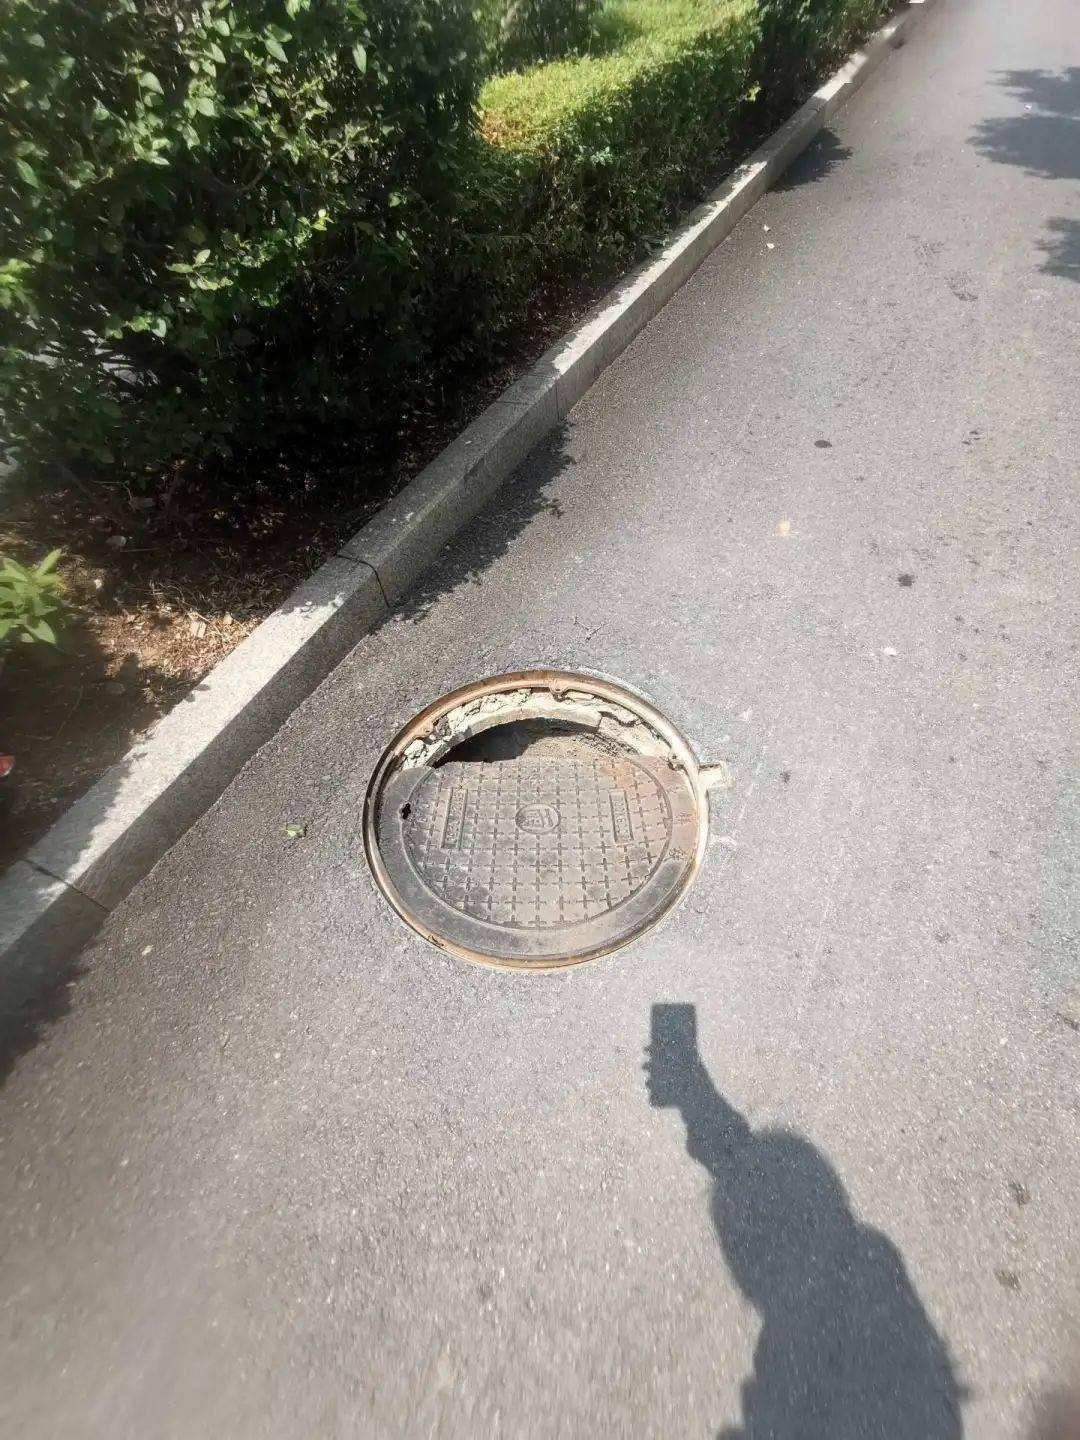broke: (368, 670, 729, 969)
